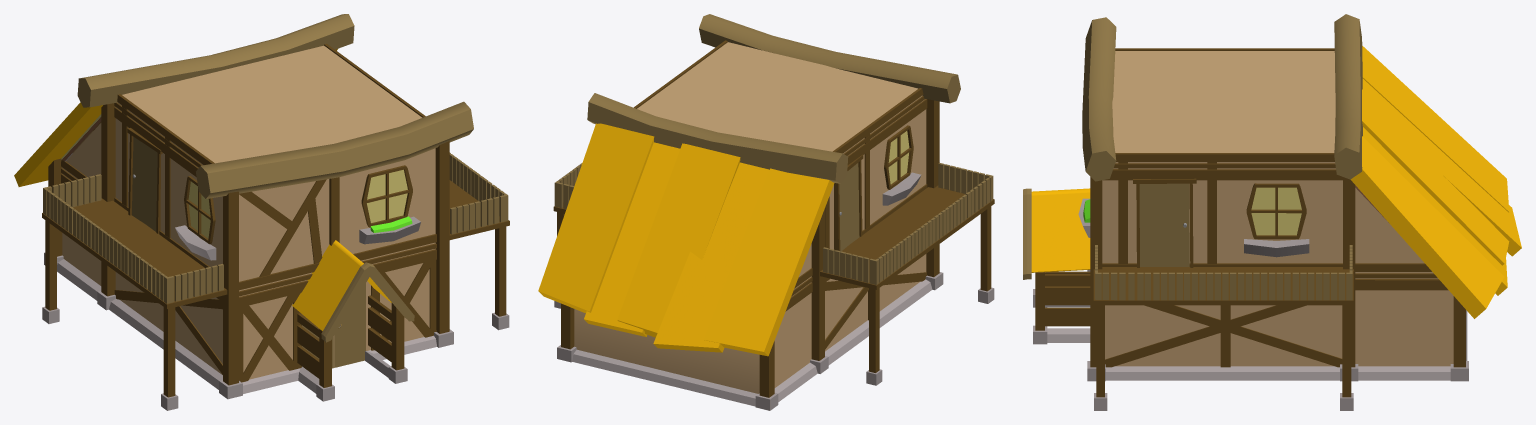
File: Modular_Houses_FLat_Roof_1.fbx
The picture shows the model from 3 angles, left to right: view 1: azimuth 30°, elevation 25°; view 2: azimuth 150°, elevation 25°; view 3: azimuth 270°, elevation 25°; orthographic projection. The views are drawn at different scales.
Parts seen in each view (by area): view 1: FLat_Roof_1; view 2: FLat_Roof_1; view 3: FLat_Roof_1.
Part boxes in pixels (x1=…): FLat_Roof_1: x1=14, y1=14, x2=509, y2=410; FLat_Roof_1: x1=538, y1=14, x2=994, y2=410; FLat_Roof_1: x1=1023, y1=14, x2=1521, y2=410.
Size of the model in its own units: 10.27 by 6.71 by 12.46.
Materials: 1 (1 with a texture image).
